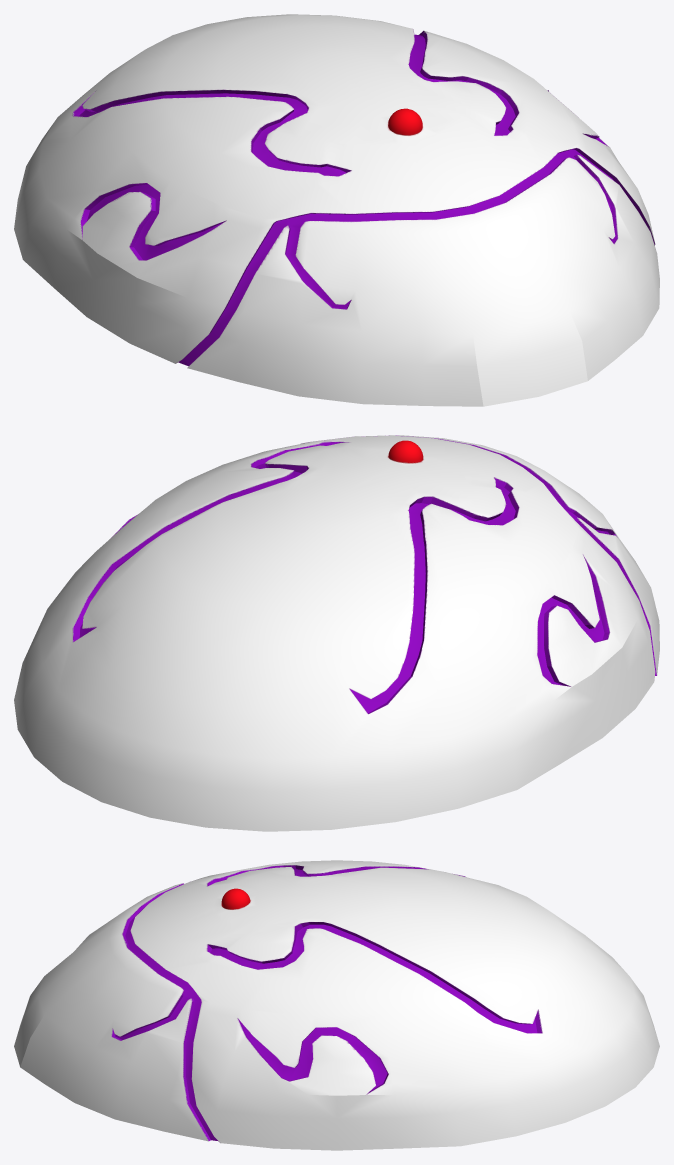
File: shizue-mask.obj
3 renders of one model, top to bottom at view 1: azimuth 30°, elevation 25°; view 2: azimuth 150°, elevation 25°; view 3: azimuth 270°, elevation 25°, orthographic. The views are drawn at different scales.
Parts seen in each view (by area): view 1: Sphere; view 2: Sphere; view 3: Sphere.
Boxes of the visible parts, x1=… form: Sphere: x1=14, y1=14, x2=659, y2=406; Sphere: x1=14, y1=435, x2=659, y2=831; Sphere: x1=14, y1=860, x2=659, y2=1150.
Size of the model in its own units: 0.3697 by 0.1292 by 0.4835.
